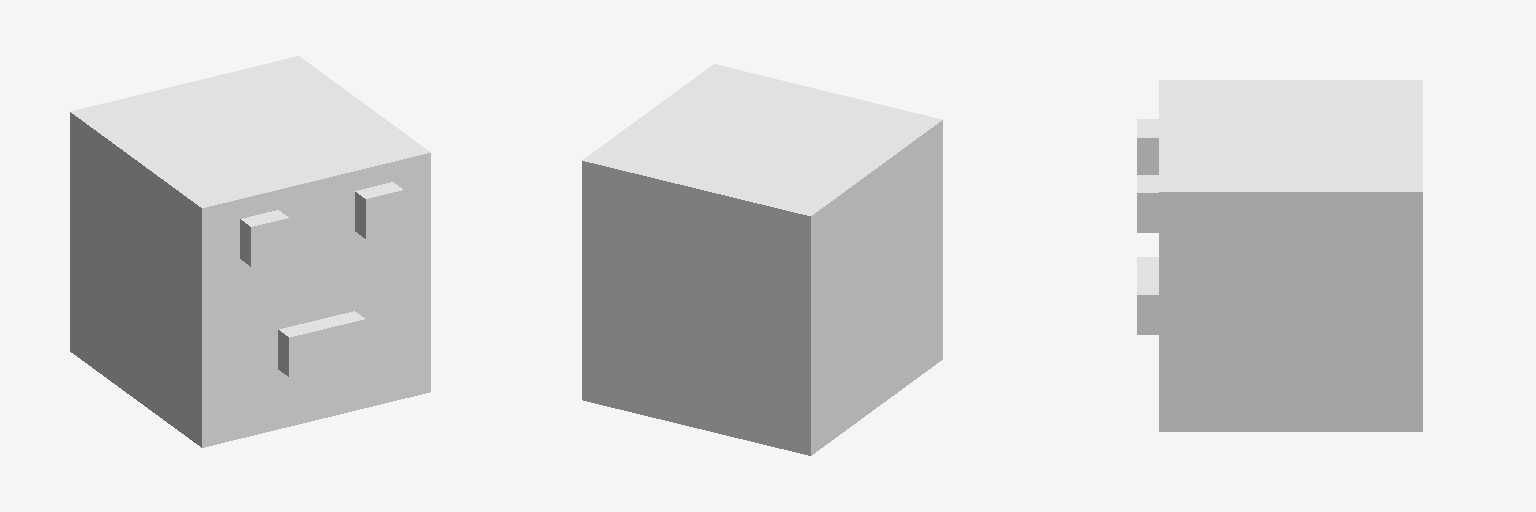
File: immune.obj
3 renders of one model, left to right at view 1: azimuth 30°, elevation 25°; view 2: azimuth 150°, elevation 25°; view 3: azimuth 270°, elevation 25°, orthographic.
Visible parts, largest first — view 1: object 1; view 2: object 1; view 3: object 1.
Boxes of the visible parts, x1,y1,x2,y2 form: object 1: [70, 56, 430, 447]; object 1: [582, 64, 942, 455]; object 1: [1137, 80, 1422, 431].
Bounding box in the file's own units: 1.2 × 1.2 × 1.3.